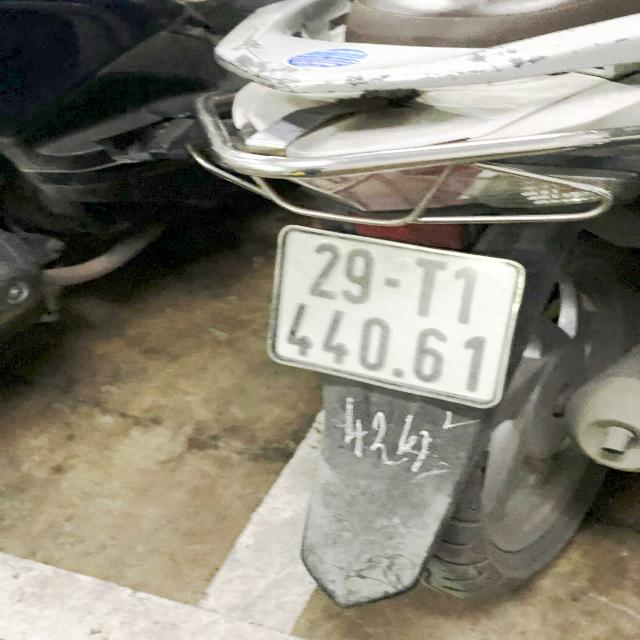license_plate: (265, 223, 527, 411)
